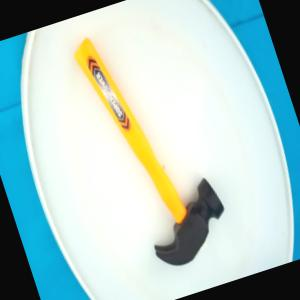martelo: (69, 11, 238, 279)
